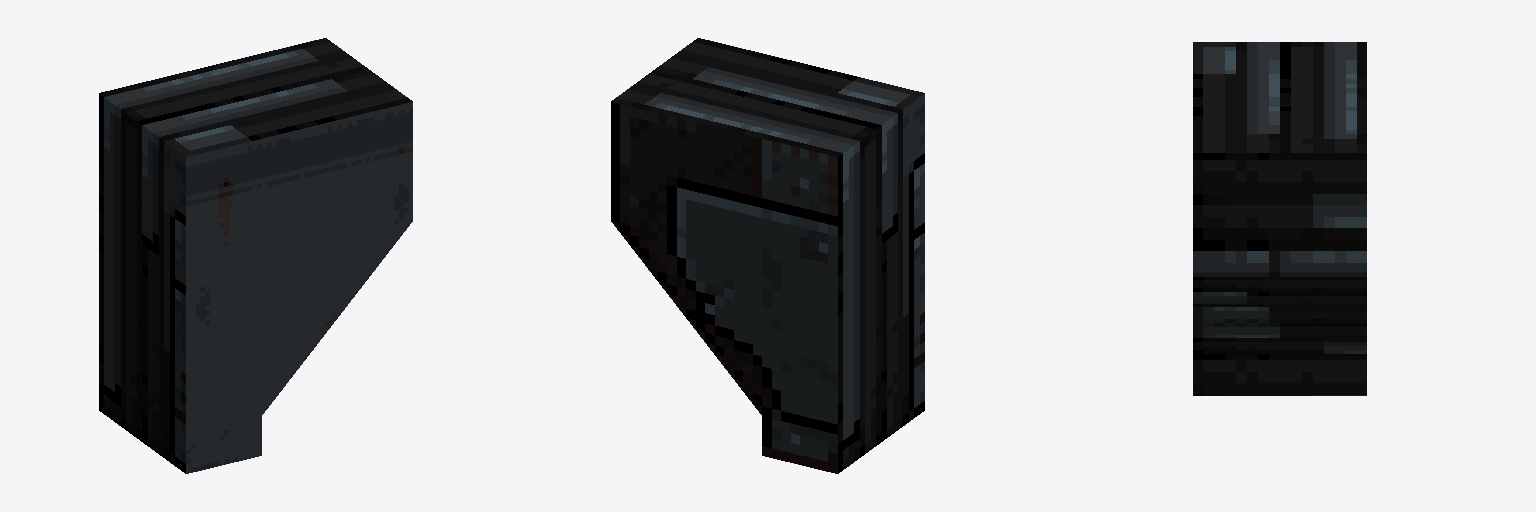
The picture shows the model from 3 angles: view 1: azimuth 30°, elevation 25°; view 2: azimuth 150°, elevation 25°; view 3: azimuth 270°, elevation 25°; orthographic projection.
Parts seen in each view (by area): view 1: DebrisPiece1Ac; view 2: DebrisPiece1Ac; view 3: DebrisPiece1Ac.
Part boxes in pixels (x1,y1,x2,y2): DebrisPiece1Ac: (99,38,412,473); DebrisPiece1Ac: (611,38,924,473); DebrisPiece1Ac: (1193,42,1366,395).
Size of the model in its own units: 0.75 by 1 by 0.5.
Materials: 4 (4 with a texture image).